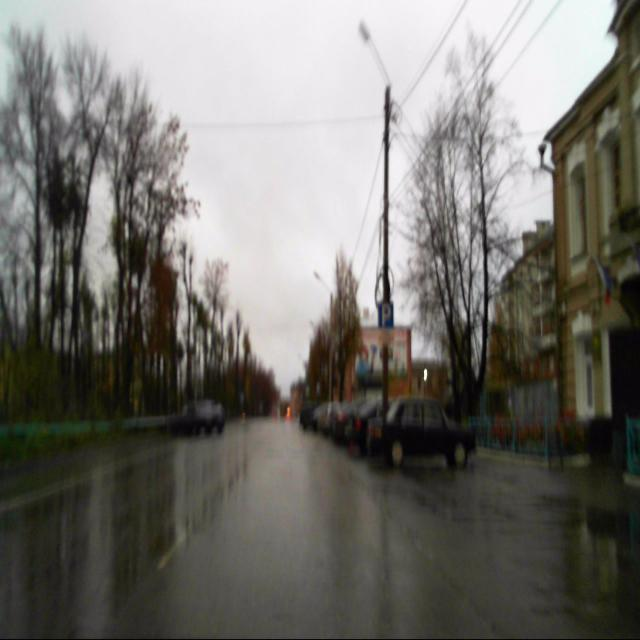road sign: (378, 301, 393, 329)
